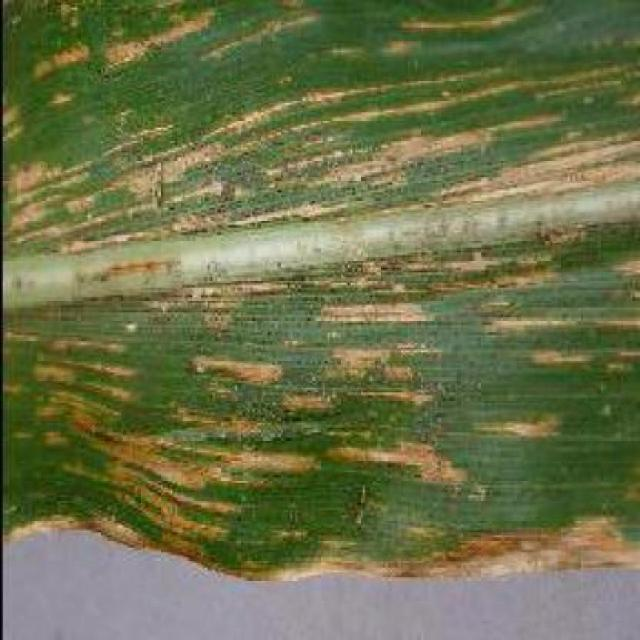Corn_Grey_Leaf_Spot: (12, 17, 640, 565)
